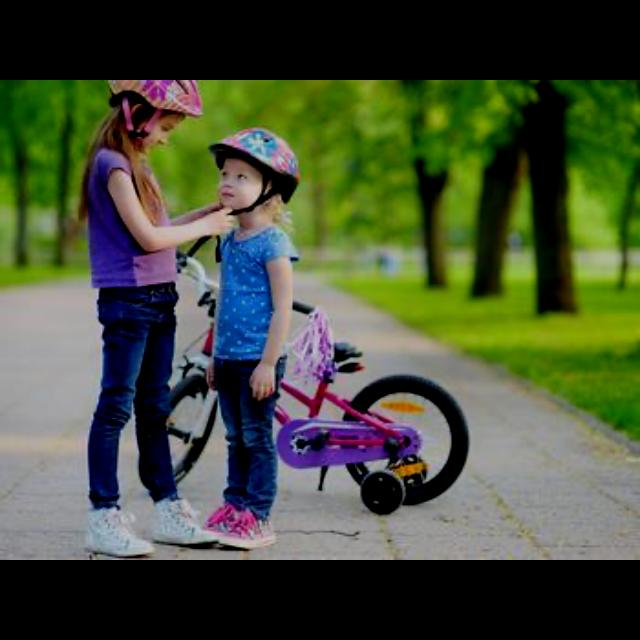With Helmet: (200, 119, 302, 221)
